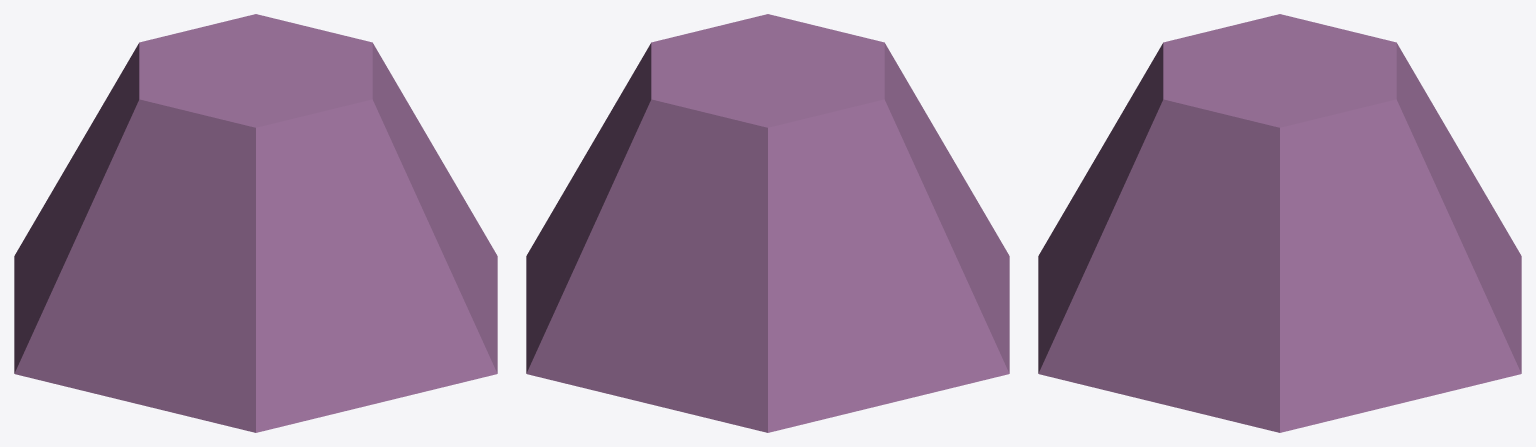
Rendered from Elefant_Base.fbx.
The picture shows the model from 3 angles, left to right: view 1: azimuth 30°, elevation 25°; view 2: azimuth 150°, elevation 25°; view 3: azimuth 270°, elevation 25°; orthographic projection.
Parts seen in each view (by area): view 1: polySurface154; view 2: polySurface154; view 3: polySurface154.
Part boxes in pixels (left/top/right/bottom): polySurface154: left=14, top=14, right=497, bottom=432; polySurface154: left=526, top=14, right=1009, bottom=432; polySurface154: left=1038, top=14, right=1521, bottom=432.
Size of the model in its own units: 1.51 by 0.7292 by 1.31.
